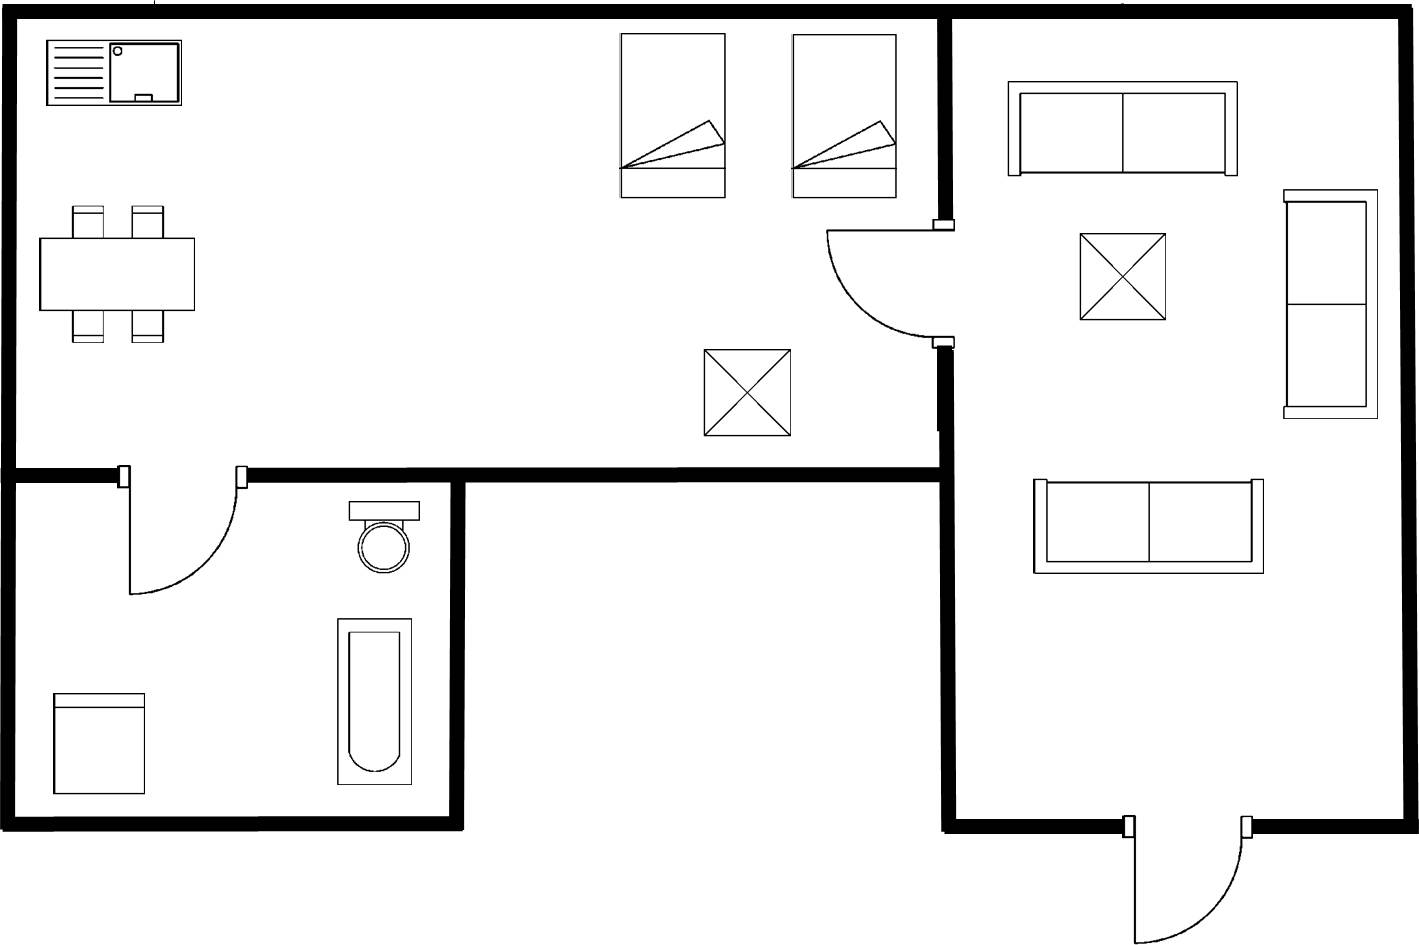bed: (613, 27, 731, 207), (787, 28, 901, 206)
coffee_table: (1073, 229, 1172, 324), (700, 345, 796, 442)
dining_table: (33, 199, 202, 347)
large_sink: (344, 495, 426, 576)
large_sofa: (1002, 75, 1243, 182), (1277, 184, 1381, 425), (1030, 474, 1268, 577)
sink: (41, 33, 189, 113)
small_sofa: (46, 687, 151, 799)
tub: (330, 612, 418, 790)
